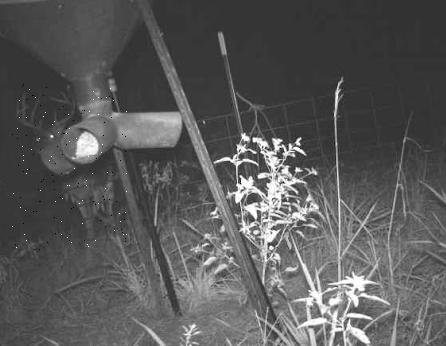Deer: (10, 84, 127, 250)
